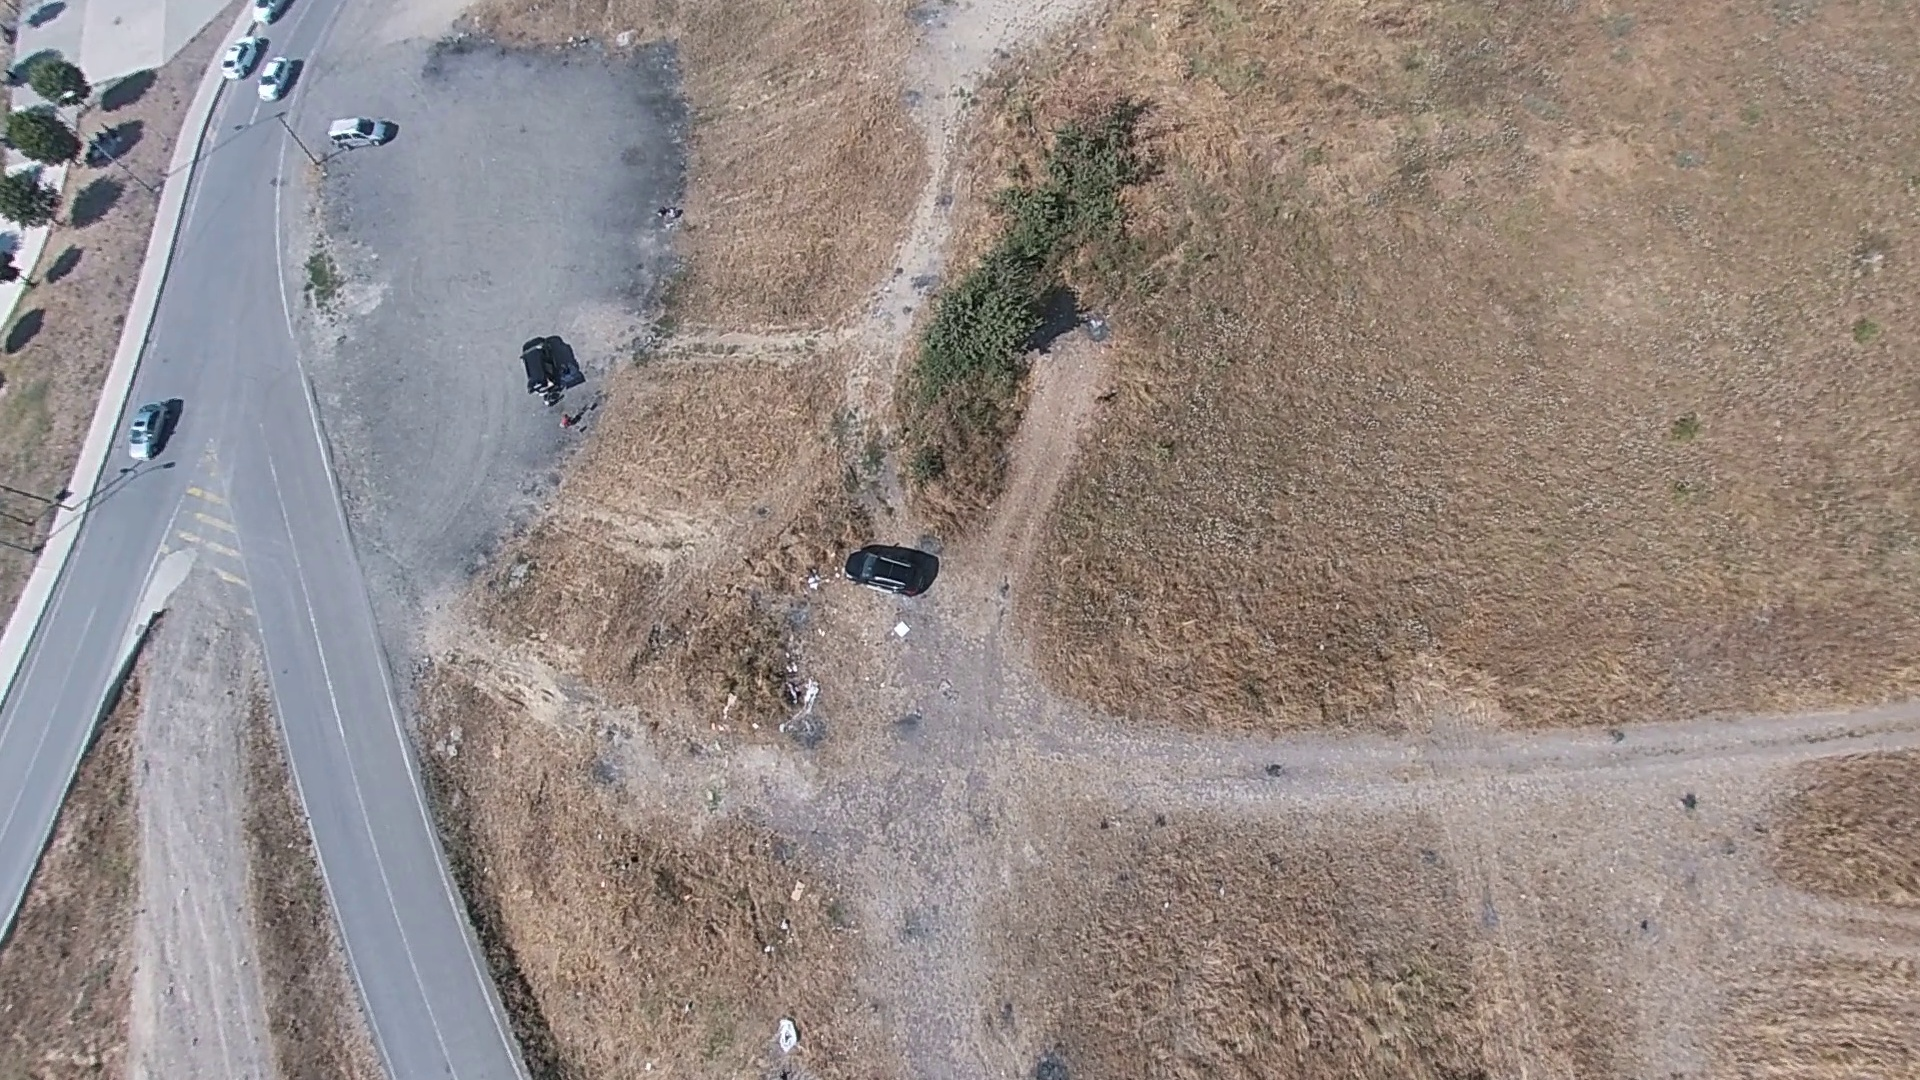arac: (843, 541, 936, 593), (520, 328, 585, 398), (121, 392, 177, 462)
